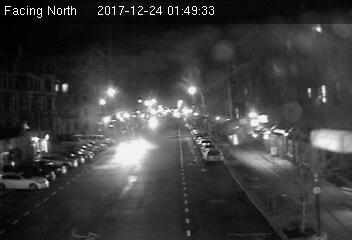car: (202, 147, 224, 162)
